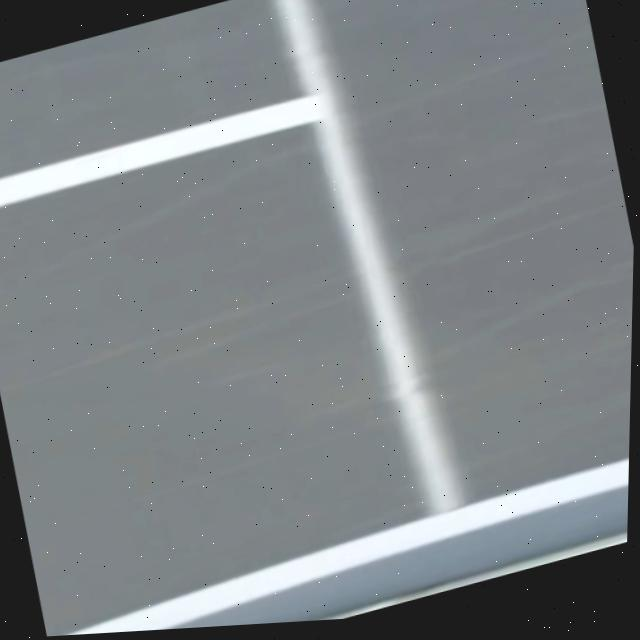center: (0, 94, 326, 205)
left: (65, 458, 629, 635)
